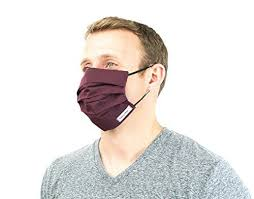mask: (66, 70, 132, 127)
